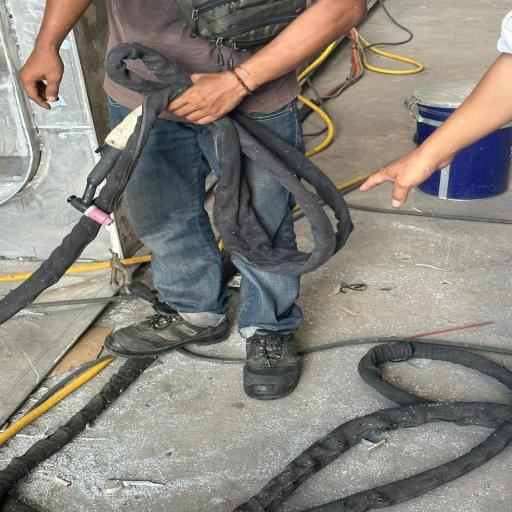safety_shoe: (99, 294, 238, 358), (236, 318, 310, 417)
